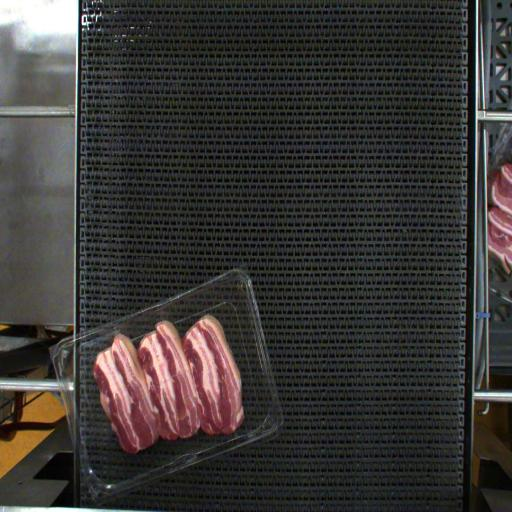packaging-error: (112, 322, 124, 336)
